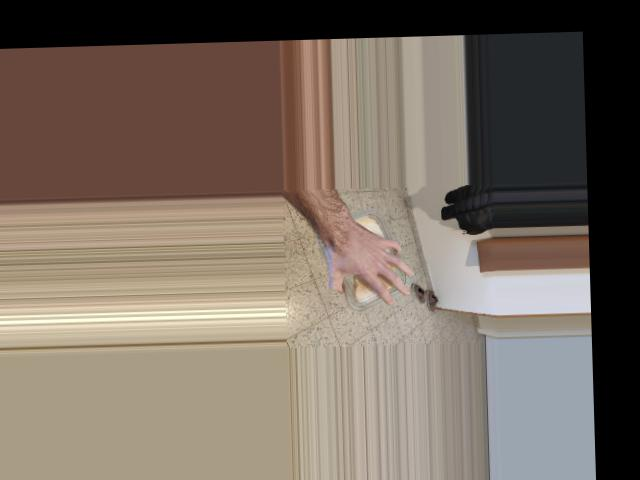cheese: (317, 212, 412, 308)
